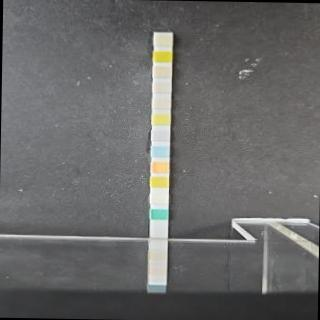mark: (151, 112, 170, 126), (152, 66, 172, 79), (152, 50, 172, 62), (152, 82, 172, 94), (150, 145, 170, 157), (153, 34, 172, 46), (151, 98, 170, 110), (151, 129, 170, 141), (149, 176, 168, 188), (150, 161, 168, 173), (150, 208, 168, 220), (150, 192, 168, 203)
